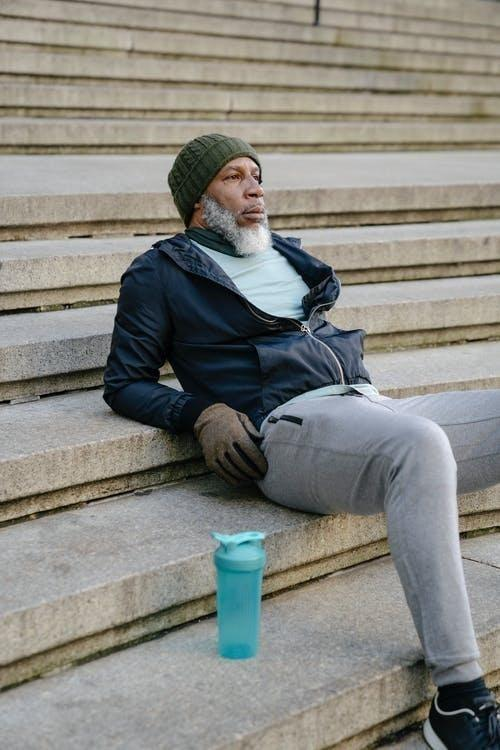gym bottle: (211, 532, 267, 662)
